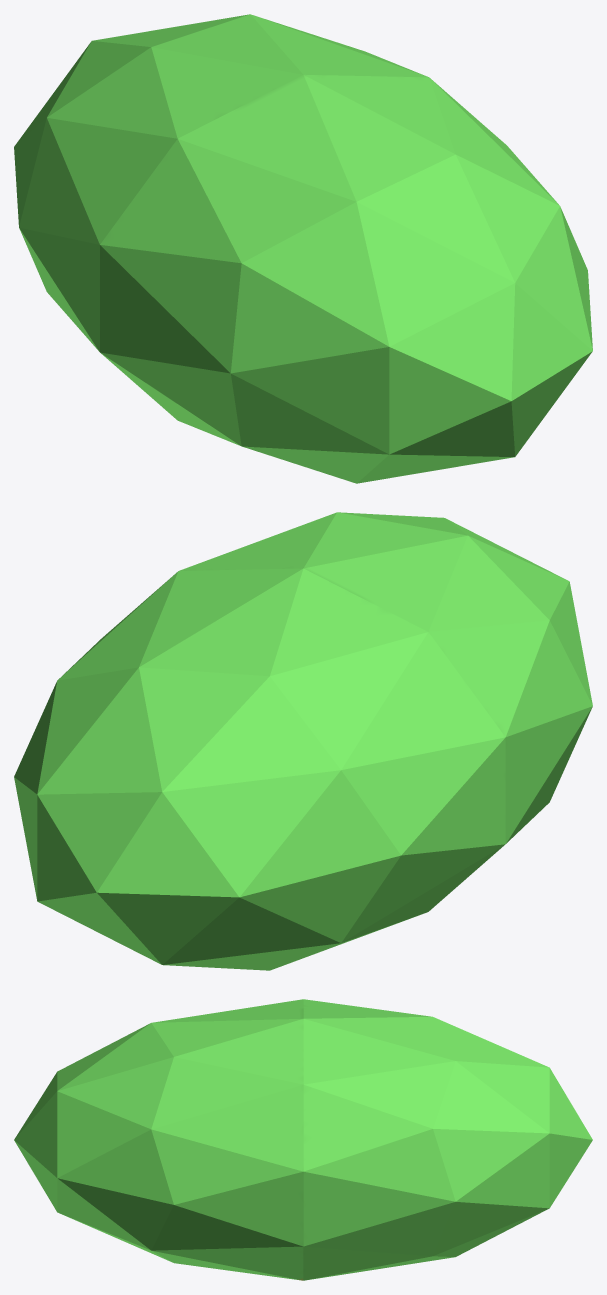
Rendered from Emerald.fbx.
The picture shows the model from 3 angles, top to bottom: view 1: azimuth 30°, elevation 25°; view 2: azimuth 150°, elevation 25°; view 3: azimuth 270°, elevation 25°; orthographic projection. The views are drawn at different scales.
Visible parts, largest first — view 1: Icosphere.002; view 2: Icosphere.002; view 3: Icosphere.002.
Part boxes in pixels (bbox=[...]): Icosphere.002: bbox=[14, 14, 592, 483]; Icosphere.002: bbox=[14, 512, 592, 970]; Icosphere.002: bbox=[14, 999, 592, 1280].
Bounding box in the file's own units: 113 × 92.4 × 200.
Materials: 1 (1 with a texture image).
